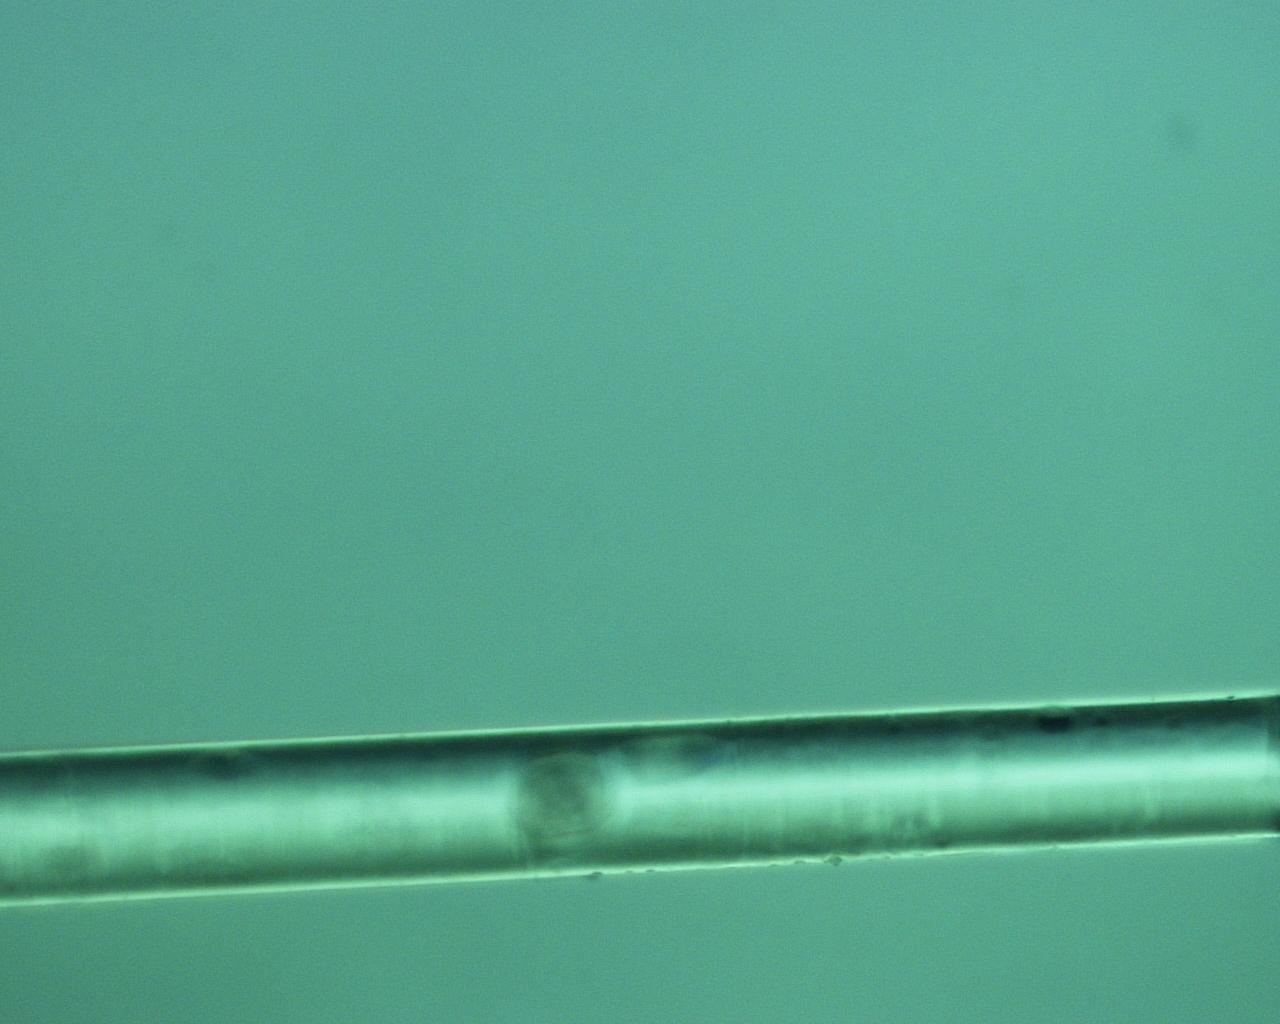fiber: (0, 688, 1280, 909)
